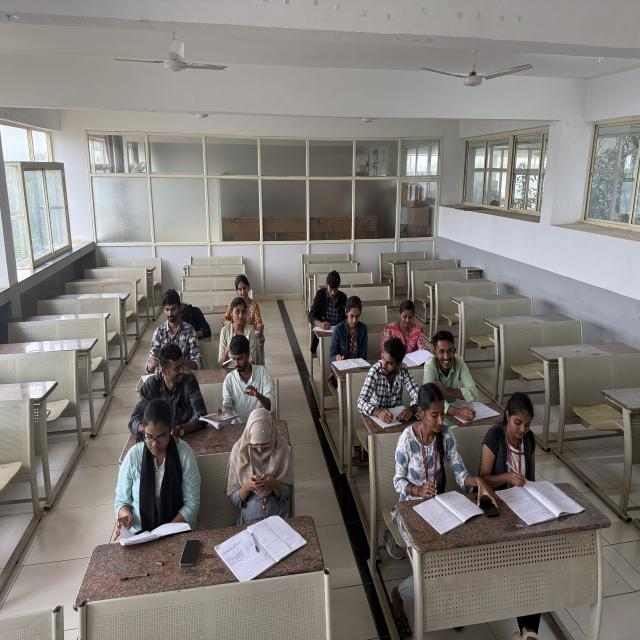Reading: (118, 392, 202, 550), (380, 297, 430, 362), (328, 295, 372, 365), (220, 276, 266, 342)
Sleeping: (177, 292, 217, 342)
Using Phone: (124, 340, 208, 440), (223, 405, 294, 512)
Writing: (394, 381, 468, 516), (478, 386, 542, 498), (356, 336, 419, 424), (142, 285, 204, 372), (307, 268, 347, 331)
